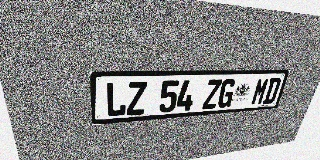4: (176, 80, 196, 111)
5: (159, 80, 179, 113)
D: (262, 78, 282, 104)
G: (216, 79, 237, 108)
L: (105, 82, 126, 117)
M: (250, 78, 270, 105)
Z: (126, 81, 147, 115), (202, 79, 222, 109)
